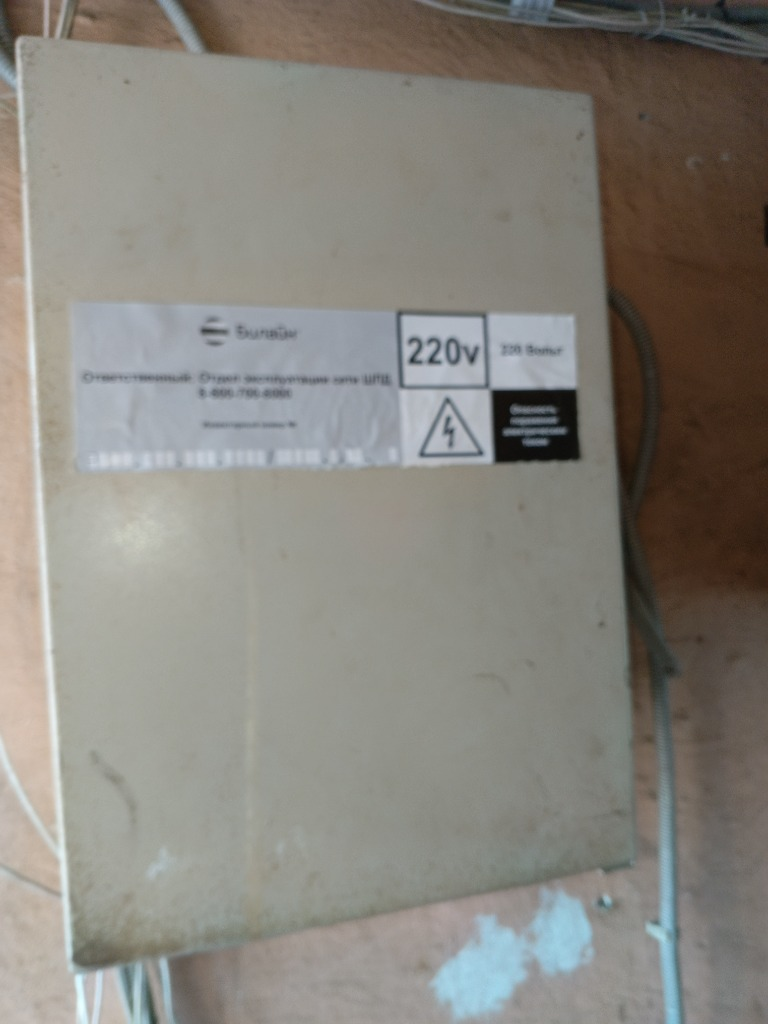sv-5: (9, 23, 649, 983)
